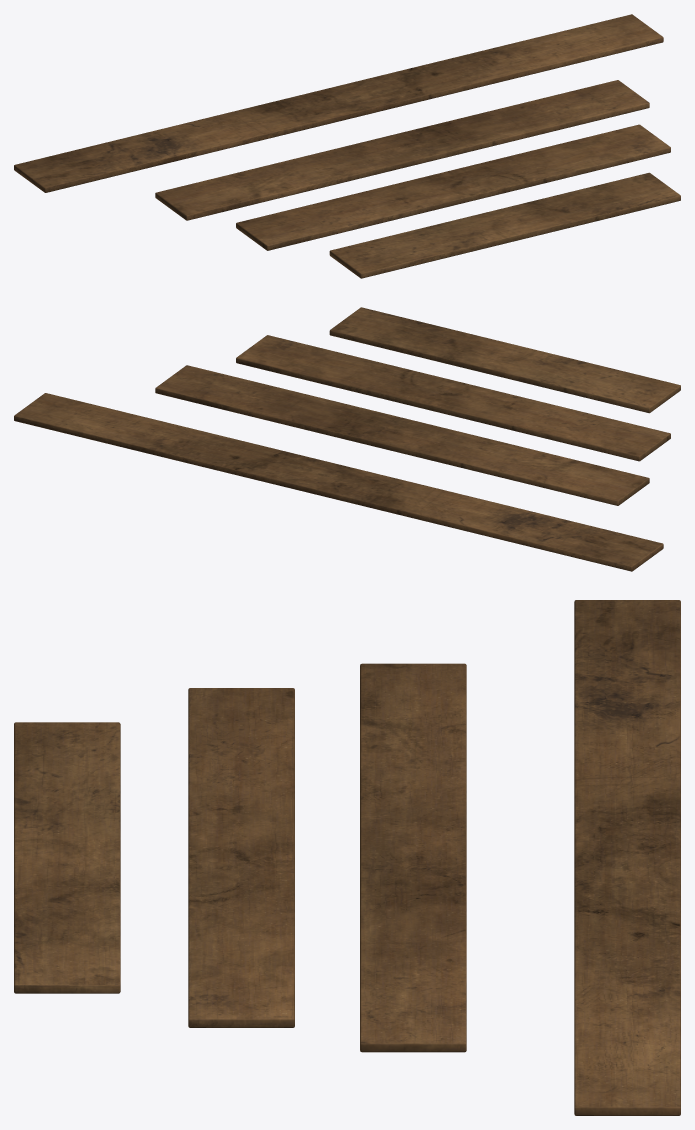
Rendered from Planks.fbx.
3 renders of one model, top to bottom at view 1: azimuth 30°, elevation 25°; view 2: azimuth 150°, elevation 25°; view 3: azimuth 270°, elevation 25°, orthographic. The views are drawn at different scales.
Parts seen in each view (by area): view 1: Plank 1, Plank 2, Plank 3, Plank 4; view 2: Plank 1, Plank 2, Plank 3, Plank 4; view 3: Plank 1, Plank 2, Plank 3, Plank 4.
Part boxes in pixels (<box>): Plank 1: <box>14,14,663,192</box>; Plank 2: <box>155,80,649,220</box>; Plank 3: <box>236,124,670,250</box>; Plank 4: <box>329,172,680,278</box>; Plank 1: <box>14,393,663,571</box>; Plank 2: <box>155,365,649,505</box>; Plank 3: <box>236,335,670,461</box>; Plank 4: <box>329,307,680,413</box>; Plank 1: <box>574,600,680,1115</box>; Plank 2: <box>360,663,466,1052</box>; Plank 3: <box>188,688,294,1027</box>; Plank 4: <box>14,722,120,993</box>.
Size of the model in its own units: 7.05 by 0.0619 by 3.91.
